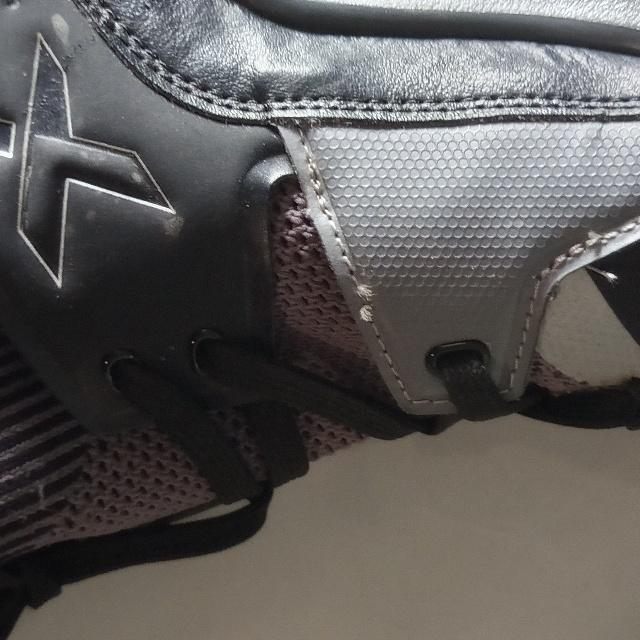broken: (352, 274, 384, 328)
